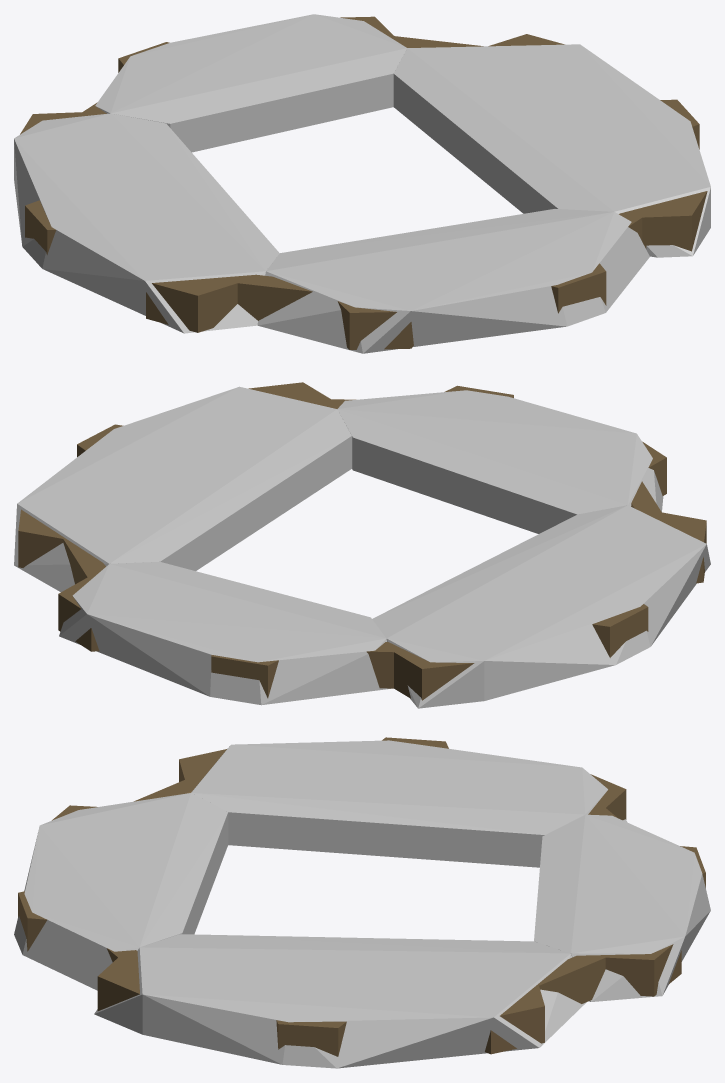
File: SM_Bld_Planetarium_01_Gear_02.fbx
The picture shows the model from 3 angles, top to bottom: view 1: azimuth 30°, elevation 25°; view 2: azimuth 150°, elevation 25°; view 3: azimuth 270°, elevation 25°; orthographic projection.
Parts seen in each view (by area): view 1: SM_Bld_Planetarium_01_Gear_02_ConvexHulls, SM_Bld_Planetarium_01_Gear_02; view 2: SM_Bld_Planetarium_01_Gear_02_ConvexHulls, SM_Bld_Planetarium_01_Gear_02; view 3: SM_Bld_Planetarium_01_Gear_02_ConvexHulls, SM_Bld_Planetarium_01_Gear_02.
Part boxes in pixels (bbox=[...]): SM_Bld_Planetarium_01_Gear_02_ConvexHulls: bbox=[14, 14, 710, 353]; SM_Bld_Planetarium_01_Gear_02: bbox=[20, 16, 707, 349]; SM_Bld_Planetarium_01_Gear_02_ConvexHulls: bbox=[14, 386, 710, 708]; SM_Bld_Planetarium_01_Gear_02: bbox=[18, 382, 706, 700]; SM_Bld_Planetarium_01_Gear_02_ConvexHulls: bbox=[14, 740, 710, 1068]; SM_Bld_Planetarium_01_Gear_02: bbox=[18, 737, 705, 1056].
Bounding box in the file's own units: 180 × 180 × 11.47.
2 materials, 1 textured.
